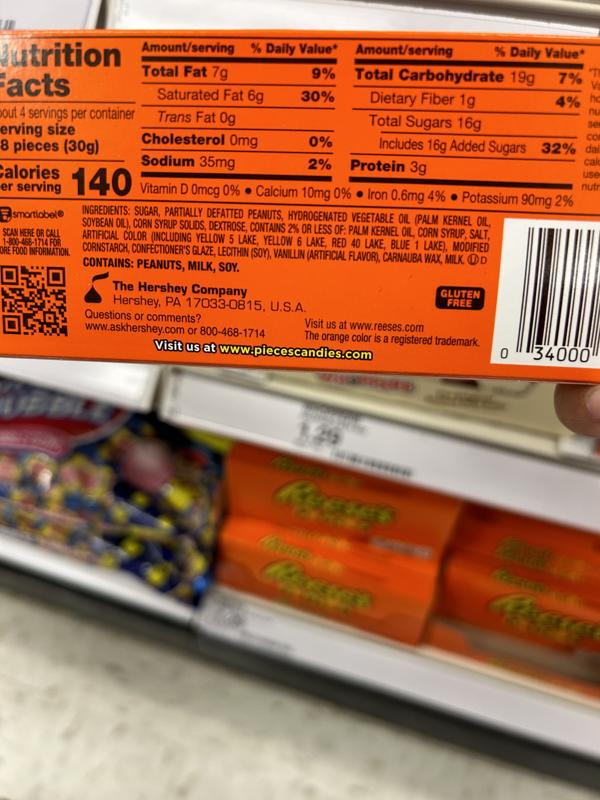ingredients: (79, 203, 495, 267)
